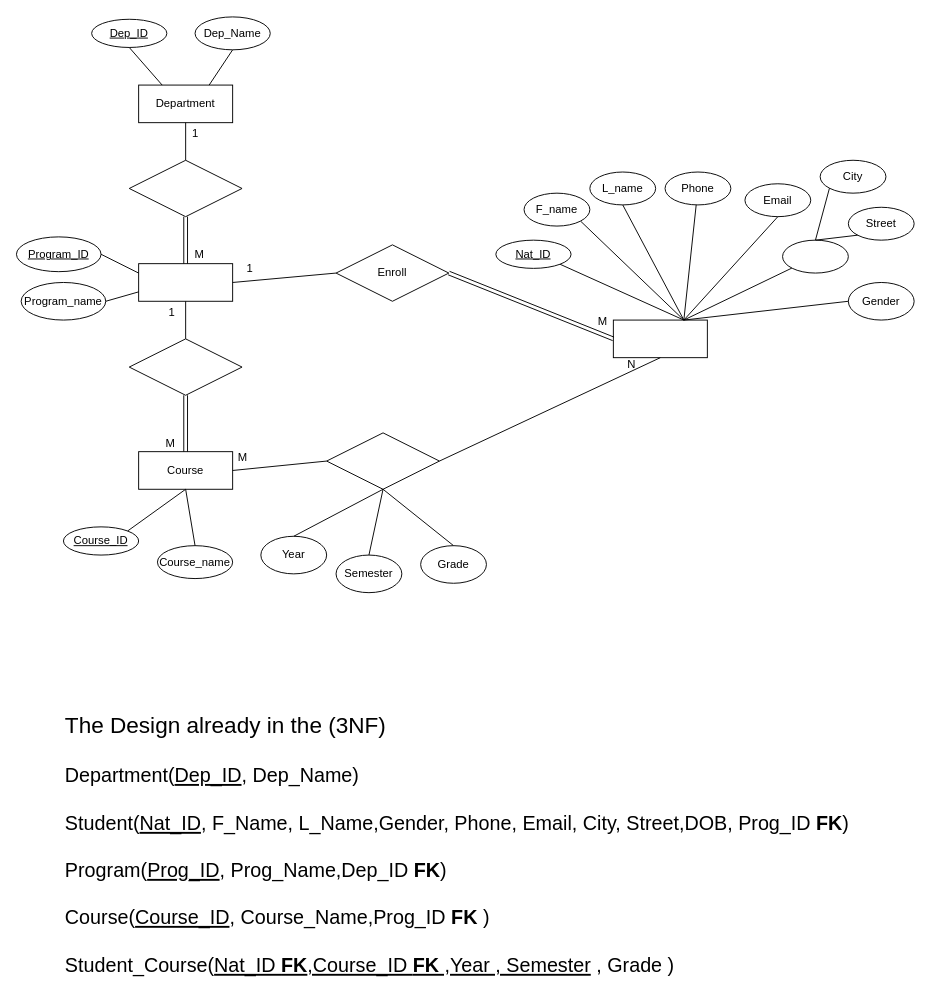
This 931x998 diagram has some shape labels left out. Each missing label, with the box of its shape:
Address: (782, 239, 848, 273)
Contain: (128, 338, 242, 395)
Offers: (128, 159, 242, 217)
Program: (138, 263, 233, 301)
Student: (612, 319, 707, 358)
Takes: (326, 432, 439, 489)
